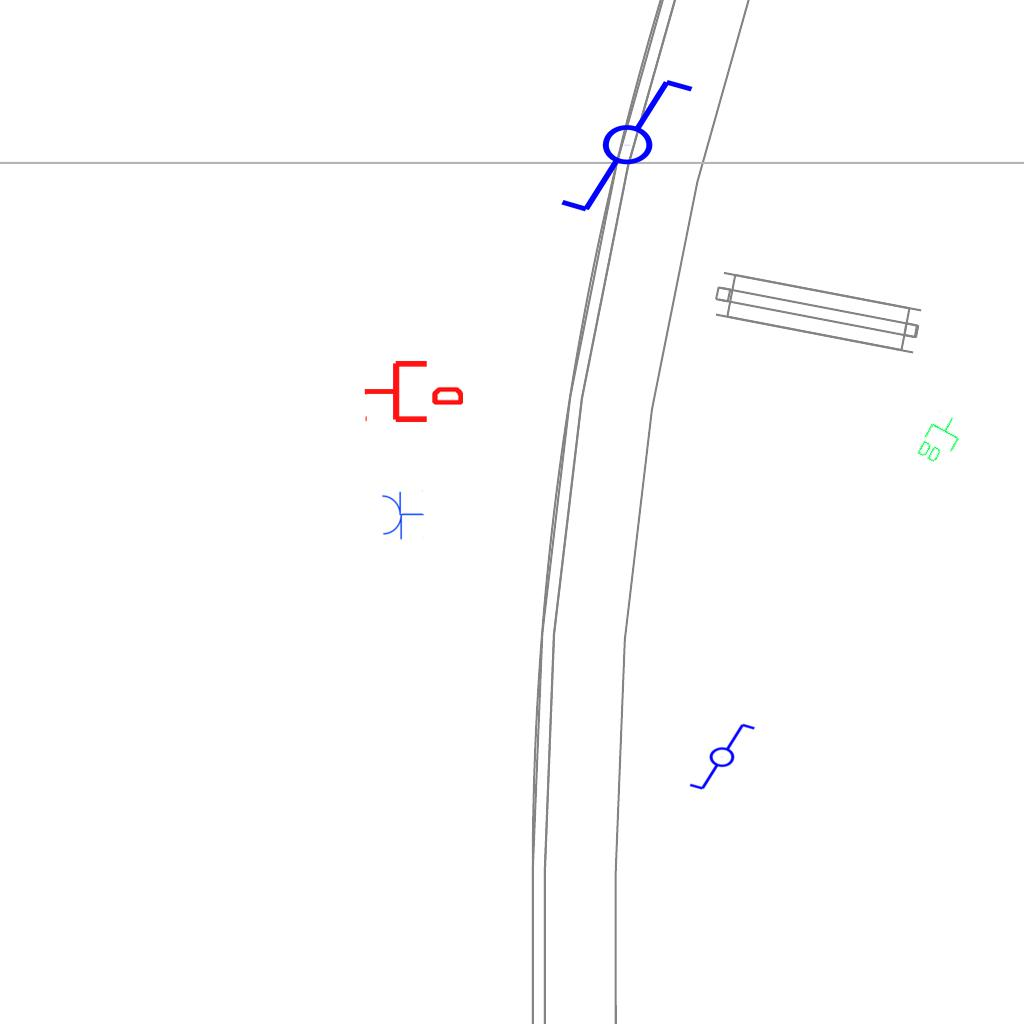Datenanschluss_einfach: (363, 357, 463, 426)
Datenanschluss_zweifach: (913, 408, 968, 470)
Schukosteckdose_einfach: (380, 489, 424, 540)
Wechselschalter: (557, 75, 714, 219), (679, 720, 757, 792)
